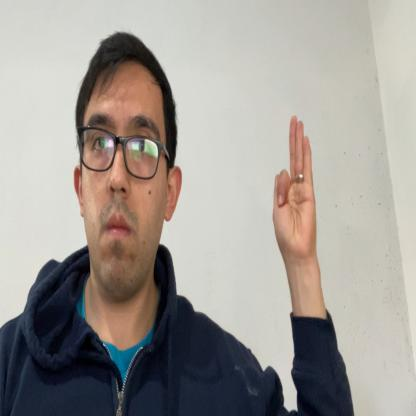F: (272, 115, 317, 262)
